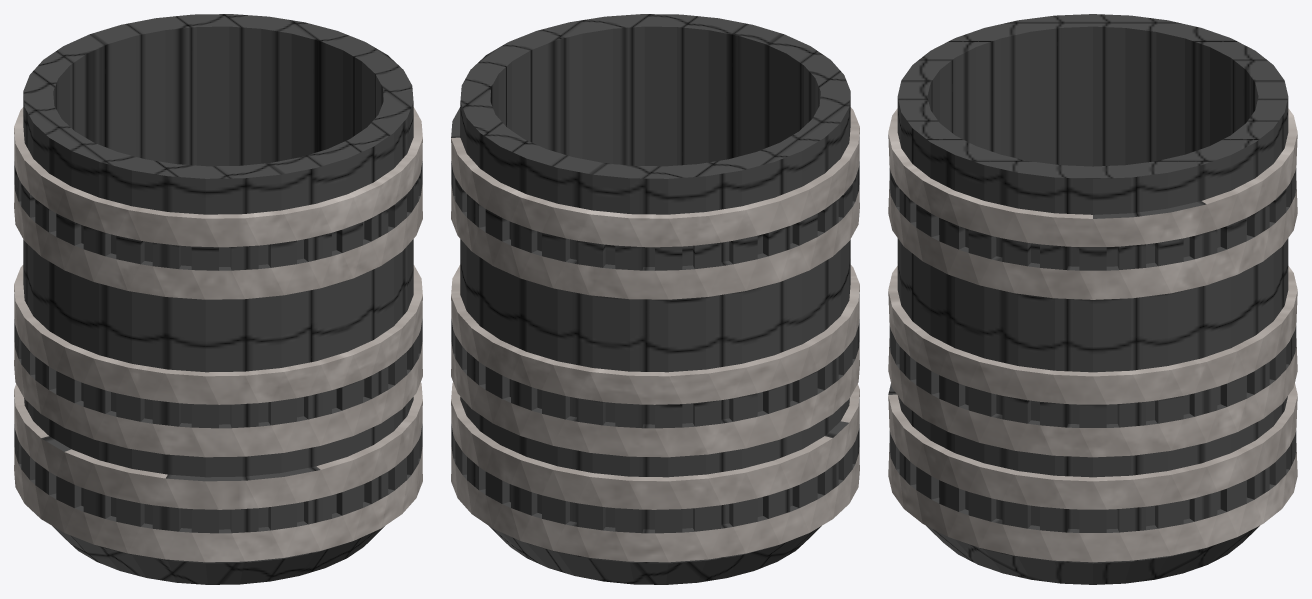
Rendered from Barrel.fbx.
3 views of the same model, side by side, from view 1: azimuth 30°, elevation 25°; view 2: azimuth 150°, elevation 25°; view 3: azimuth 270°, elevation 25° (orthographic).
Visible parts, largest first — view 1: Cylinder; view 2: Cylinder; view 3: Cylinder.
Boxes of the visible parts, box(x1,y1,x2,y2) form: Cylinder: box(14, 14, 422, 584); Cylinder: box(451, 14, 859, 584); Cylinder: box(888, 14, 1297, 584).
Size of the model in its own units: 210 by 237 by 210.
